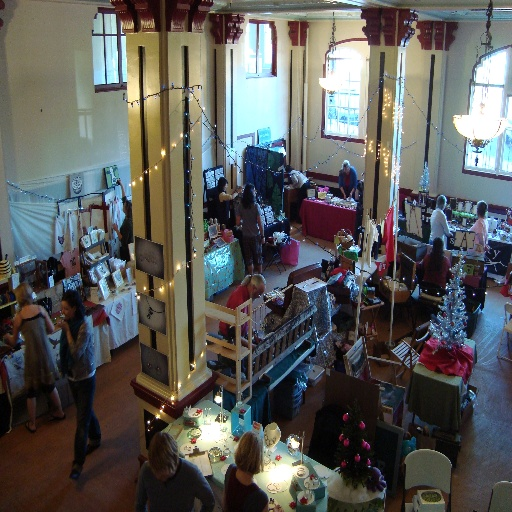hand: (57, 316, 66, 328), (272, 503, 285, 511), (254, 335, 263, 346), (2, 333, 8, 344), (484, 245, 490, 254), (260, 237, 265, 246), (237, 187, 243, 194)
